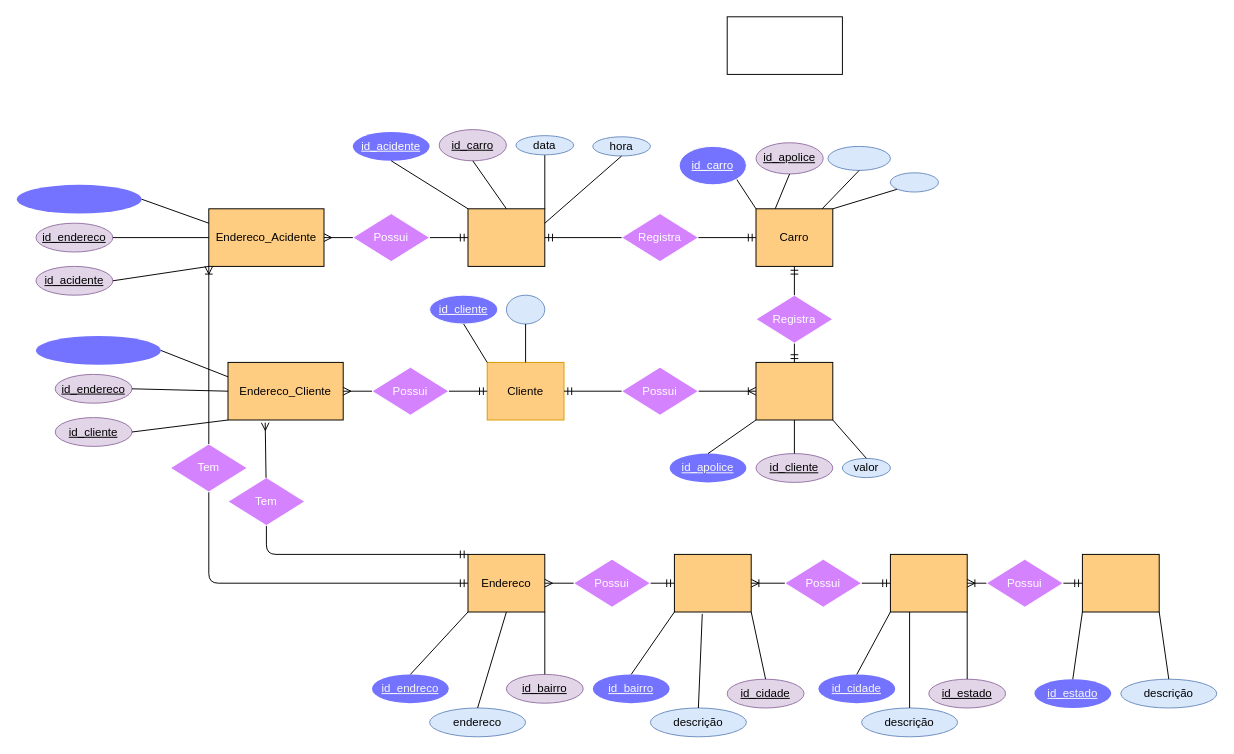
Image size: 1234x754. Some labels were removed from this diagram. The box of each missing label's shape, as (x1, y1, x2, y2) in pixels:
Acidente: (467, 208, 545, 266)
Apólice: (755, 361, 833, 420)
Bairro: (673, 553, 751, 612)
BANCO DE DADOS DA SEGURADORA: (726, 16, 842, 74)
Cidade: (889, 553, 967, 612)
Estado: (1081, 553, 1159, 612)
id_endreco_acidente: (16, 184, 141, 213)
id_endreco_cliente: (36, 336, 160, 364)
marca: (889, 172, 938, 192)
nome: (505, 294, 545, 324)
registro: (827, 145, 890, 170)
